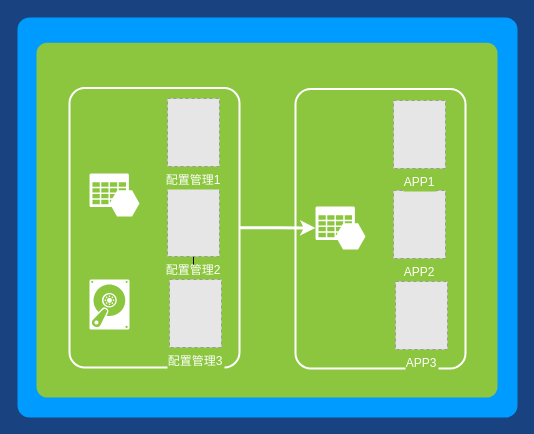
The diagram is 534 pixels wide and 434 high, and some of its shapes have lost their labels. Grey dashed boxes stand in for pictures. The centre of each missing label's shape, as x and y in pixels:
"RDMS" belongs at [109,304].
"Redis 分布式缓存" belongs at [114,194].
"本地缓存" belongs at [340,227].
